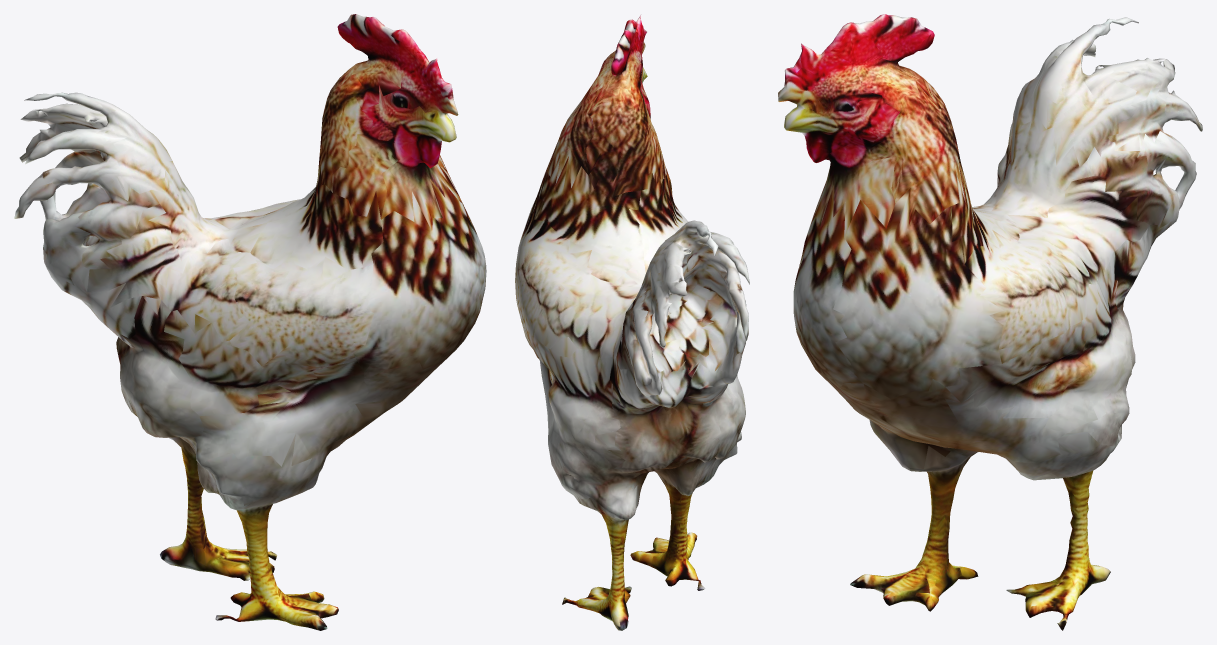
Rendered from galo.glb.
3 views of the same model, side by side, from view 1: azimuth 30°, elevation 25°; view 2: azimuth 150°, elevation 25°; view 3: azimuth 270°, elevation 25° (orthographic). The views are drawn at different scales.
Visible parts, largest first — view 1: Rooster; view 2: Rooster; view 3: Rooster.
Part boxes in pixels (bbox=[...]): Rooster: bbox=[14, 14, 486, 630]; Rooster: bbox=[515, 14, 749, 630]; Rooster: bbox=[778, 14, 1202, 630].
Bounding box in the file's own units: 0.304 × 0.5 × 0.3093.
Materials: 1 (1 with a texture image).
